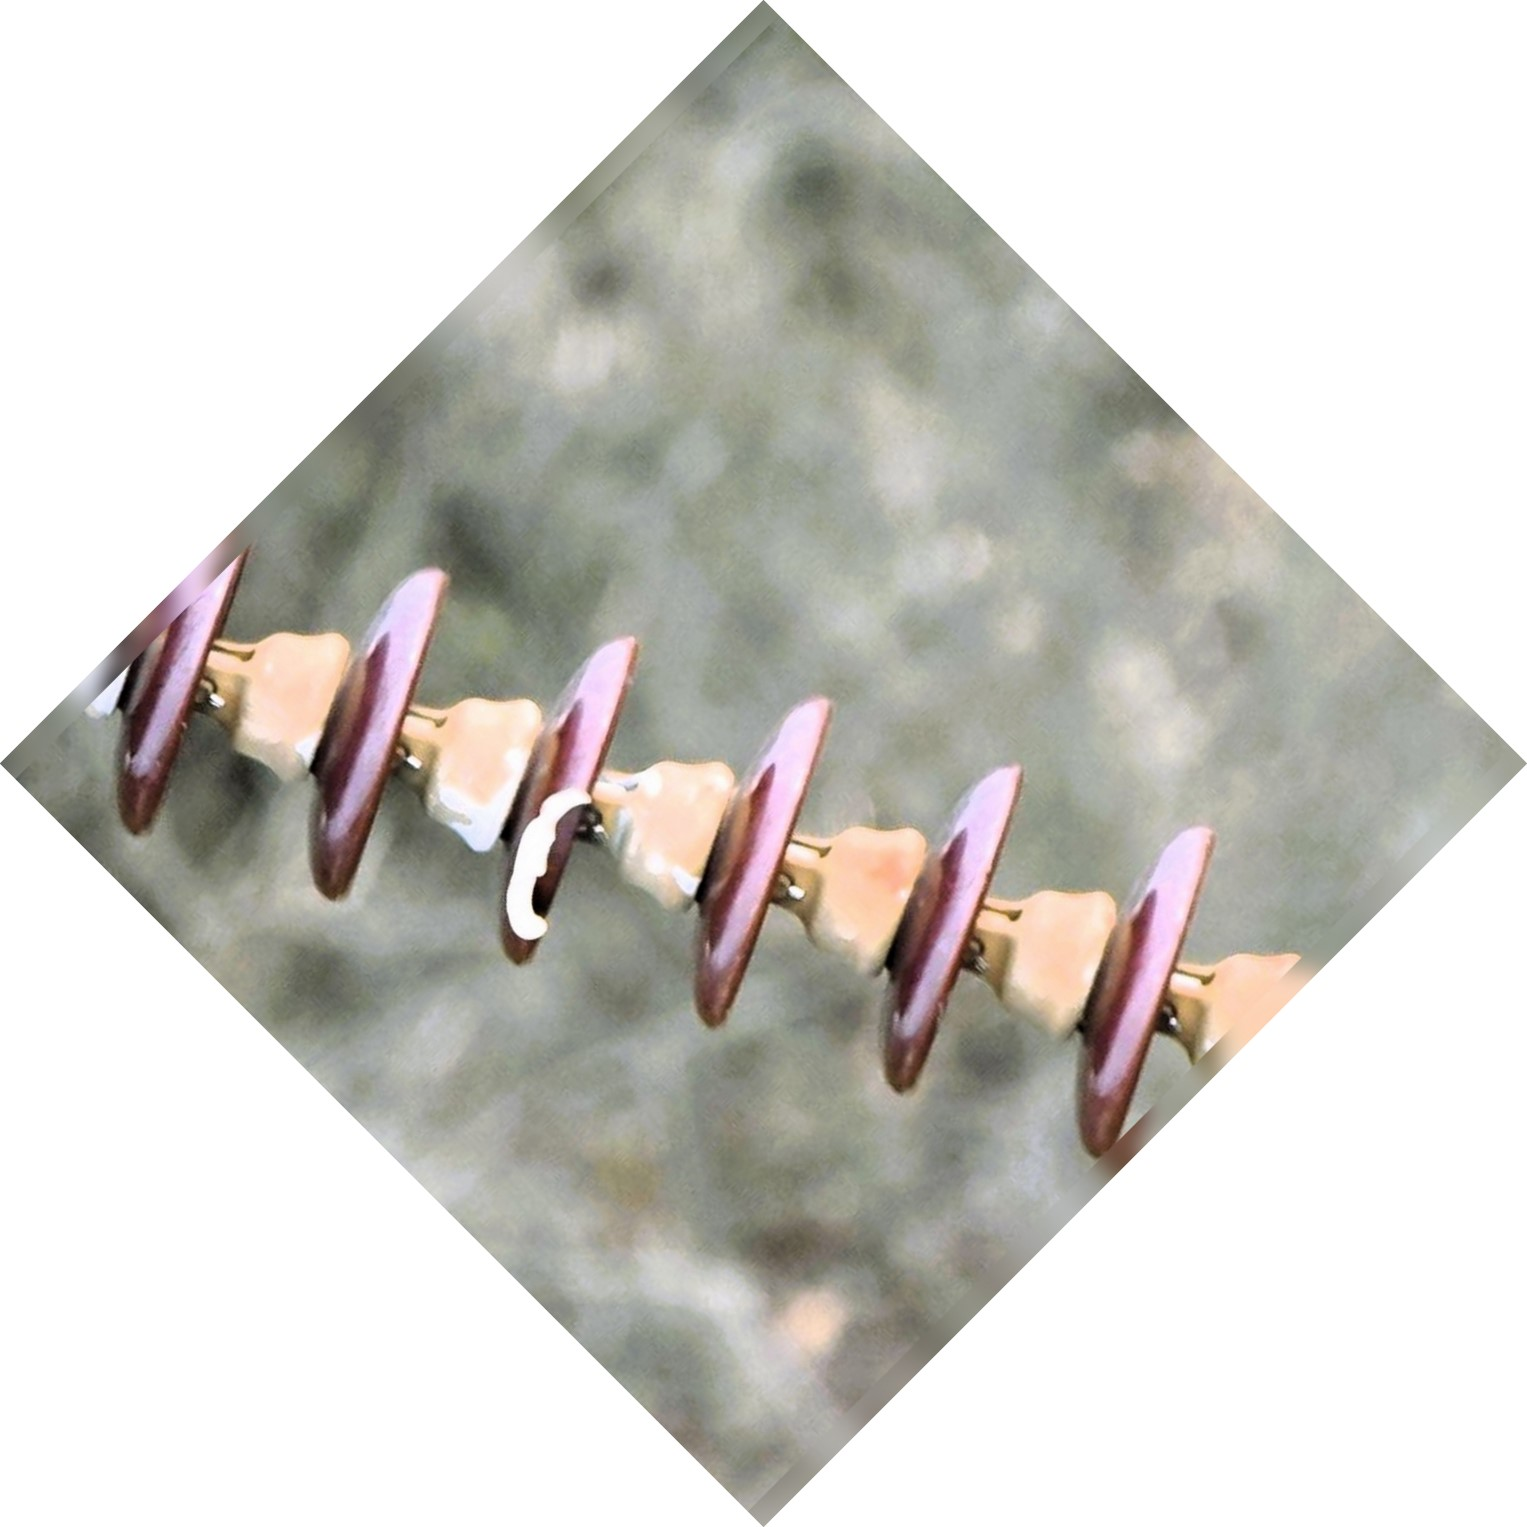insulator breakage: (478, 617, 649, 969)
